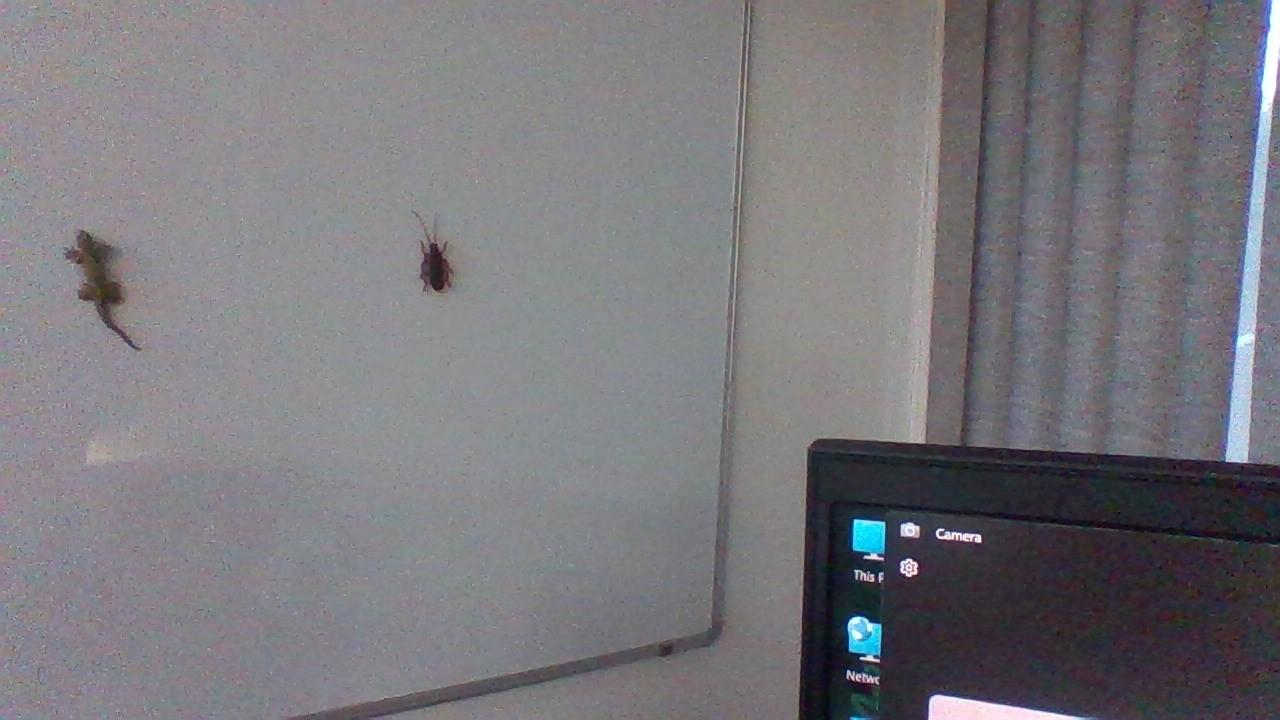cockroach: (407, 203, 470, 322)
lizard: (59, 216, 149, 368)
